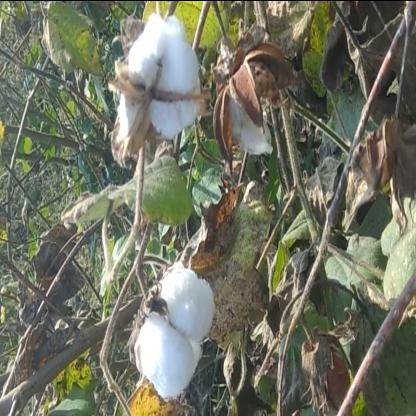cotton_ready: (107, 13, 216, 162), (124, 257, 218, 398)
